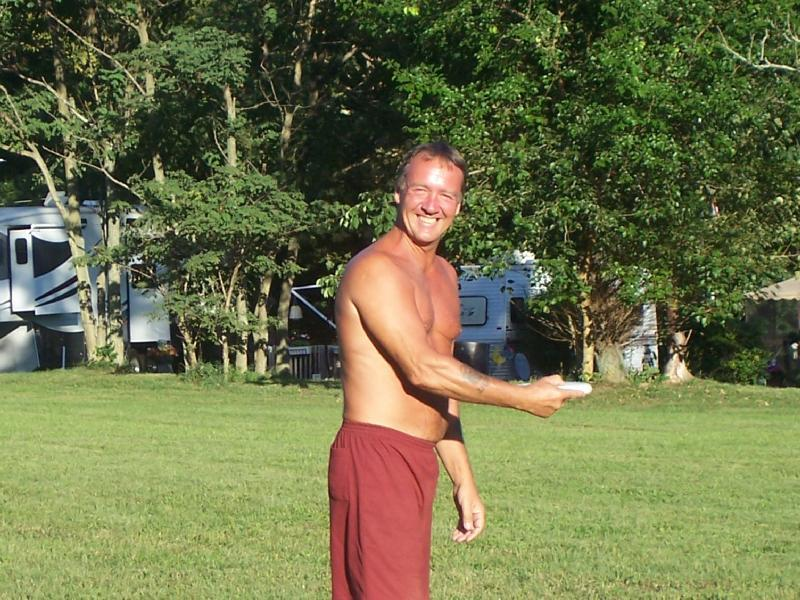person: (326, 142, 588, 600)
